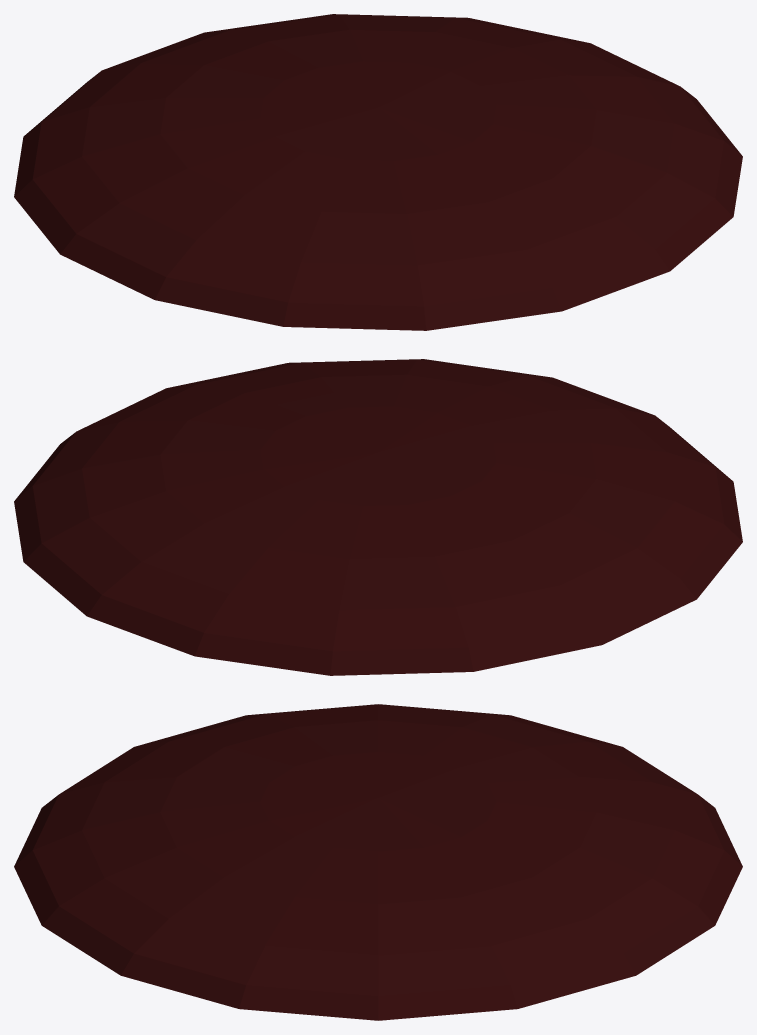
File: village_of_eights.glb
The picture shows the model from 3 angles, top to bottom: view 1: azimuth 30°, elevation 25°; view 2: azimuth 150°, elevation 25°; view 3: azimuth 270°, elevation 25°; orthographic projection.
Visible parts, largest first — view 1: Material2; view 2: Material2; view 3: Material2.
Boxes of the visible parts, x1,y1,x2,y2 form: Material2: (14, 14, 742, 330); Material2: (14, 359, 742, 675); Material2: (14, 704, 742, 1020).
Bounding box in the file's own units: 18.43 × 3 × 18.43.
